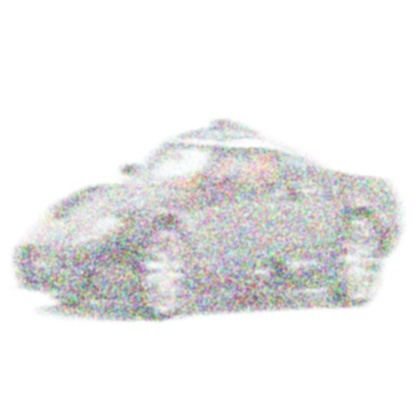Vehicle: (16, 117, 402, 320)
